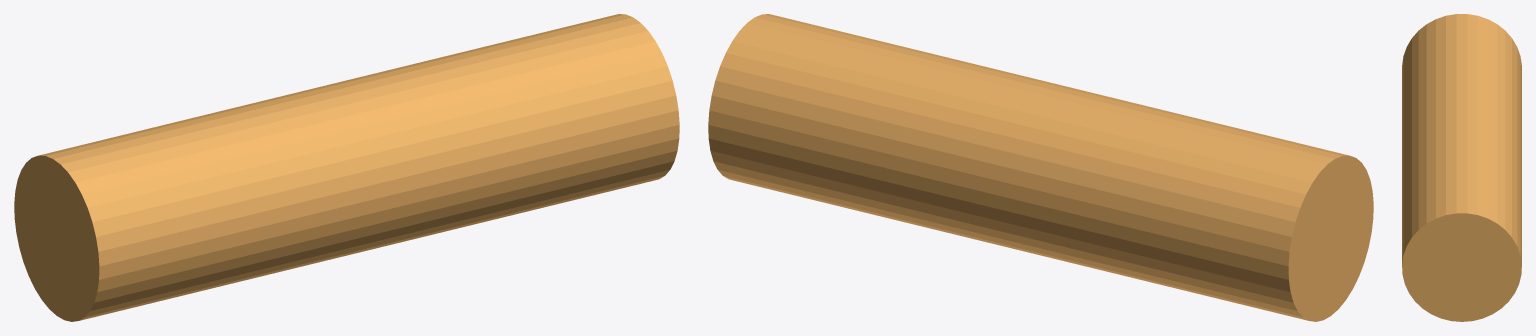
Rendered from ascent_motor.glb.
3 renders of one model, left to right at view 1: azimuth 30°, elevation 25°; view 2: azimuth 150°, elevation 25°; view 3: azimuth 270°, elevation 25°, orthographic. The views are drawn at different scales.
Parts seen in each view (by area): view 1: part:e07723; view 2: part:e07723; view 3: part:e07723.
Boxes of the visible parts, x1,y1,x2,y2 form: part:e07723: [14, 14, 679, 321]; part:e07723: [708, 14, 1373, 321]; part:e07723: [1402, 14, 1521, 321].
Bounding box in the file's own units: 0.114 × 0.0289 × 0.029.
